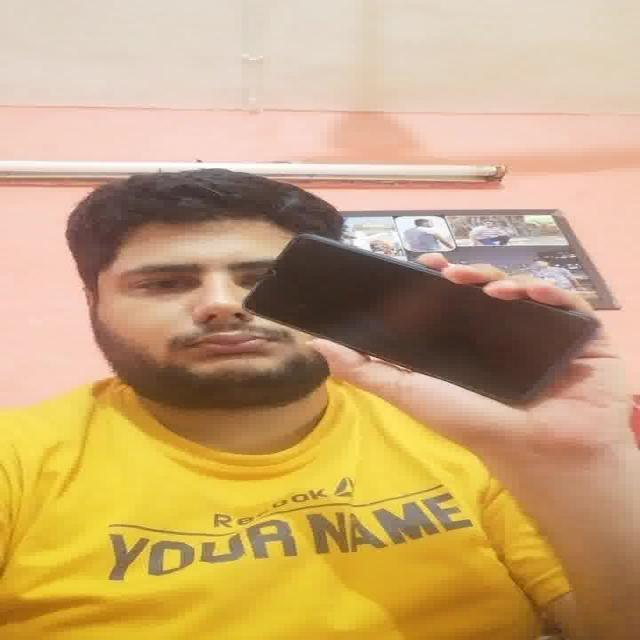Phone: (240, 230, 604, 412)
